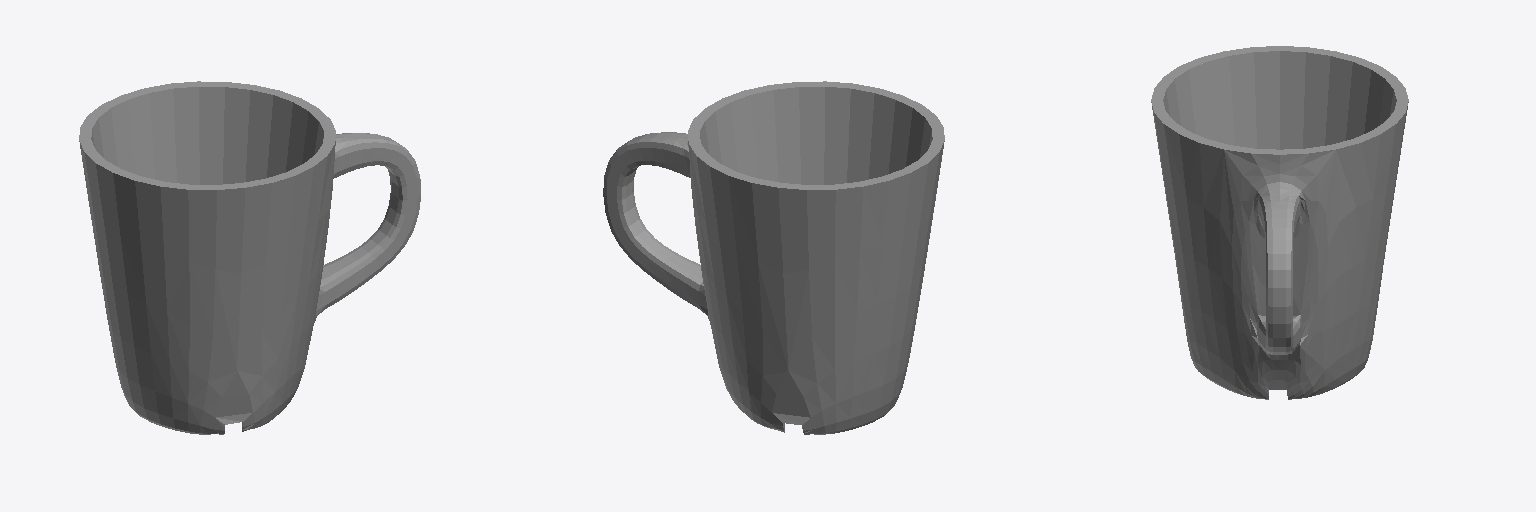
Rendered from cup.obj.
3 renders of one model, left to right at view 1: azimuth 30°, elevation 25°; view 2: azimuth 150°, elevation 25°; view 3: azimuth 270°, elevation 25°, orthographic.
Visible parts, largest first — view 1: cup_Cylinder.003; view 2: cup_Cylinder.003; view 3: cup_Cylinder.003.
Boxes of the visible parts, <box> form: cup_Cylinder.003: <box>79,81,420,434</box>; cup_Cylinder.003: <box>603,81,944,434</box>; cup_Cylinder.003: <box>1151,46,1408,399</box>.
Size of the model in its own units: 2.53 by 1.99 by 1.76.